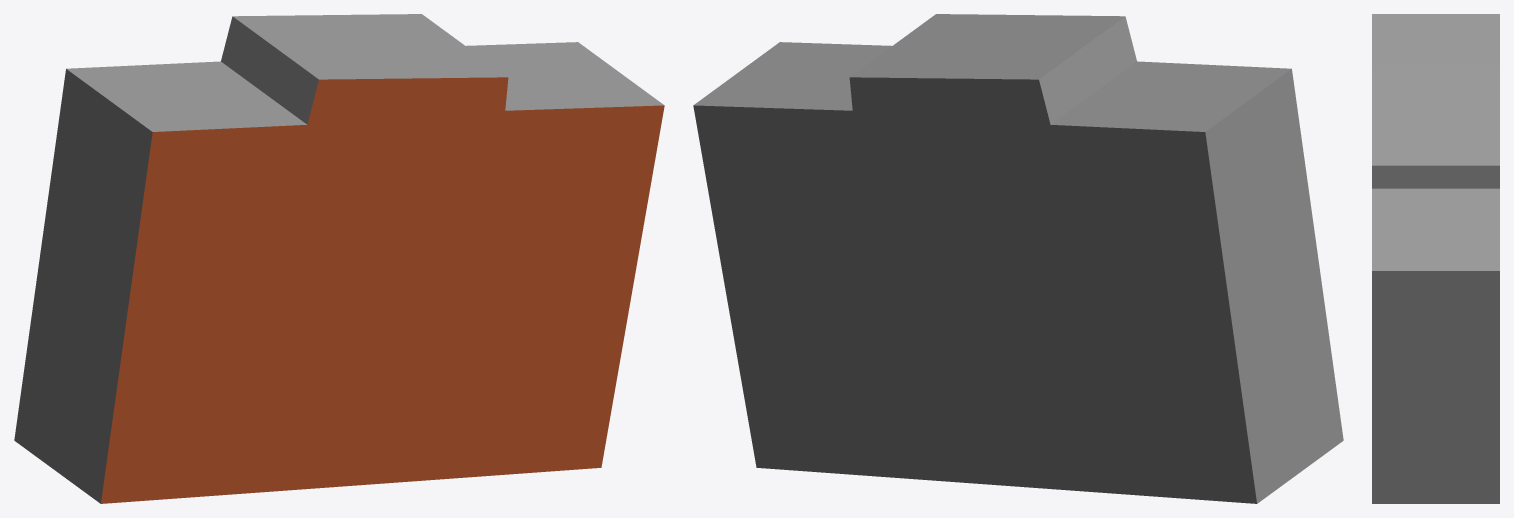
The model's file is construction_1066_assumed_A_Casa_h6m.obj.
3 views of the same model, side by side, from view 1: azimuth 30°, elevation 25°; view 2: azimuth 150°, elevation 25°; view 3: azimuth 270°, elevation 25° (orthographic). The views are drawn at different scales.
Parts seen in each view (by area): view 1: construction_1066_assumed_A_Casa; view 2: construction_1066_assumed_A_Casa; view 3: construction_1066_assumed_A_Casa.
Part boxes in pixels (x1,y1,x2,y2): construction_1066_assumed_A_Casa: (14,14,664,503); construction_1066_assumed_A_Casa: (693,14,1343,503); construction_1066_assumed_A_Casa: (1372,14,1499,503).
Bounding box in the file's own units: 22.57 × 17.48 × 6.
